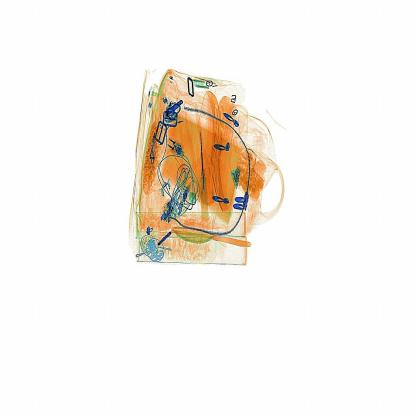wrench: (196, 132, 213, 228)
